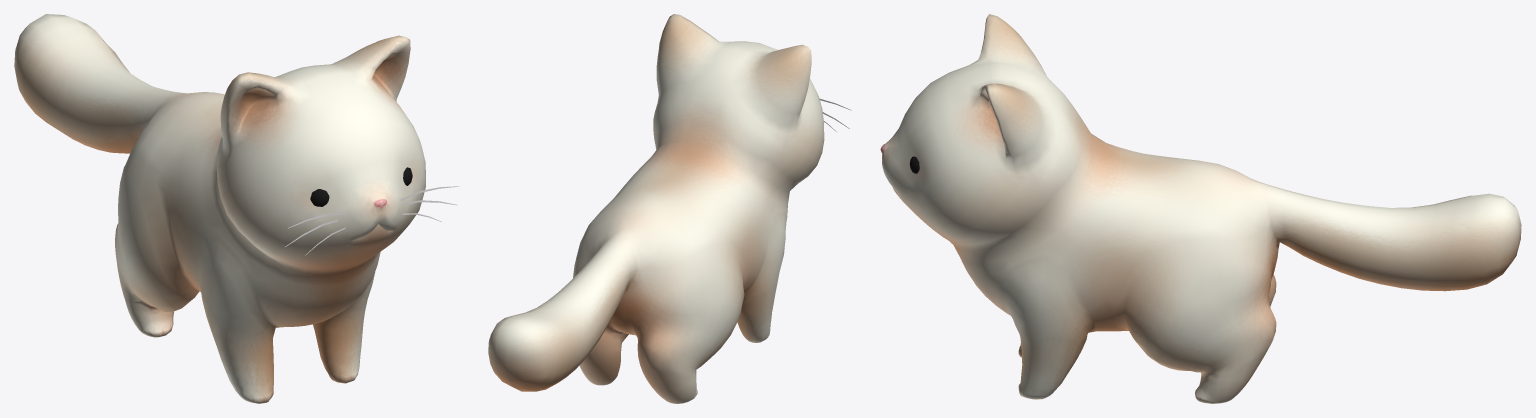
File: Driving_Sim_Model_Cat.fbx
The picture shows the model from 3 angles, left to right: view 1: azimuth 30°, elevation 25°; view 2: azimuth 150°, elevation 25°; view 3: azimuth 270°, elevation 25°; orthographic projection. The views are drawn at different scales.
Visible parts, largest first — view 1: fat_cat_white; view 2: fat_cat_white; view 3: fat_cat_white.
Part boxes in pixels (x1=…): fat_cat_white: x1=14, y1=14, x2=459, y2=403; fat_cat_white: x1=488, y1=14, x2=851, y2=403; fat_cat_white: x1=880, y1=14, x2=1521, y2=403.
Bounding box in the file's own units: 0.3137 × 0.5763 × 1.03.
